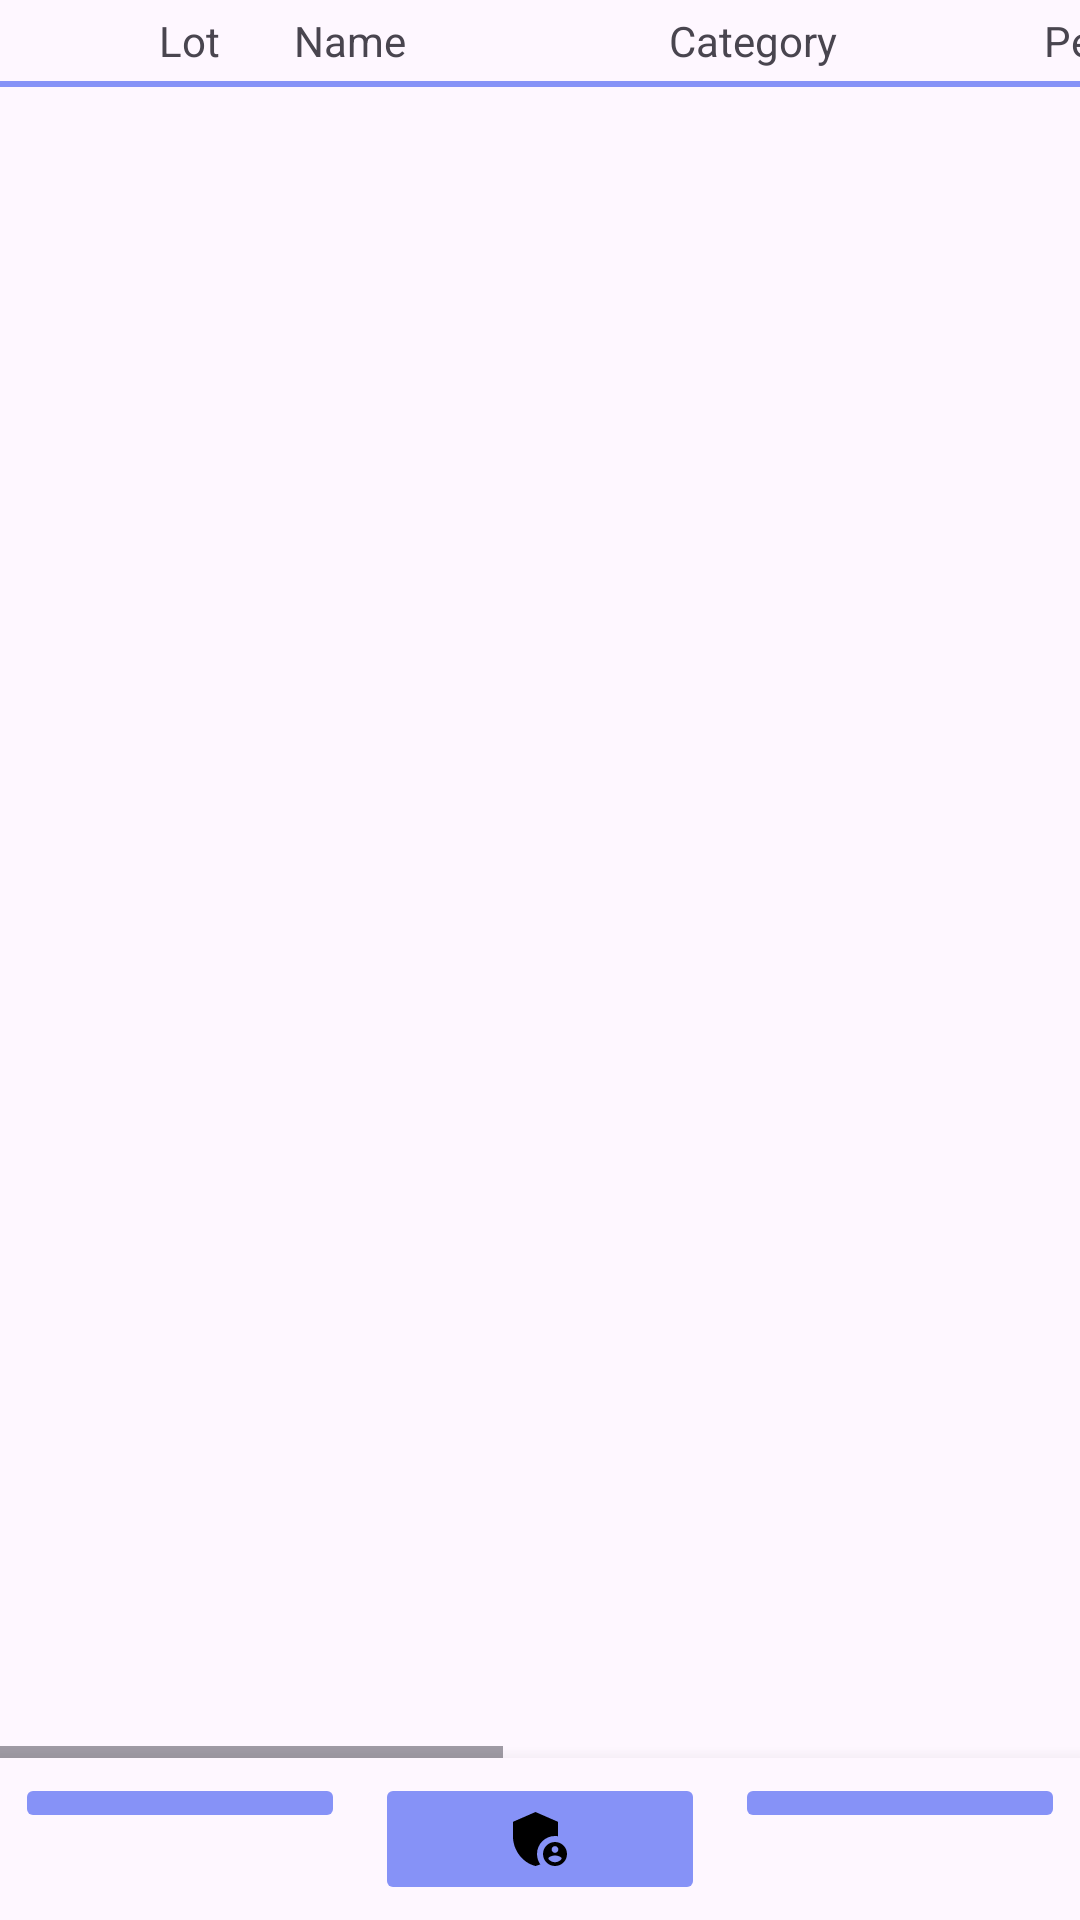

Icons on this 1080x1920 Android screen, each with the point to tap as [x,y]:
Go to Admin Screen: [540,1839]
